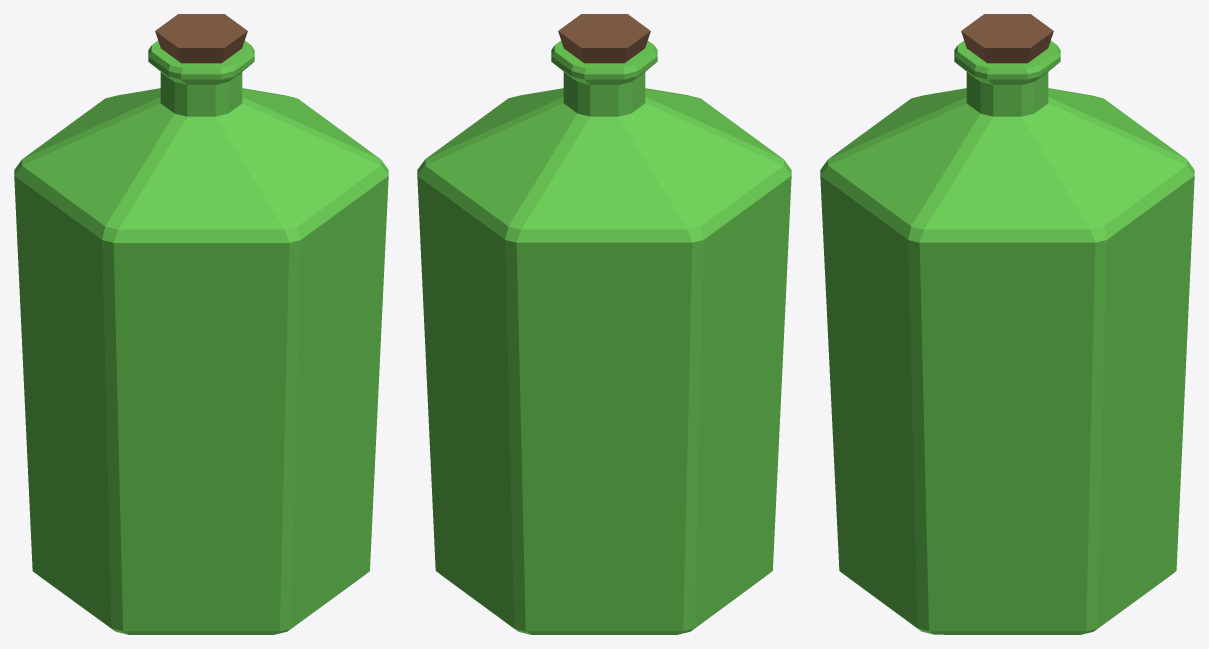
The model's file is Potion_02_Green.fbx.
3 renders of one model, left to right at view 1: azimuth 30°, elevation 25°; view 2: azimuth 150°, elevation 25°; view 3: azimuth 270°, elevation 25°, orthographic.
Visible parts, largest first — view 1: Cone.013, Cylinder.039, Cylinder.038; view 2: Cone.013, Cylinder.039, Cylinder.038; view 3: Cone.013, Cylinder.039, Cylinder.038.
Boxes of the visible parts, bbox=[...] form: Cone.013: bbox=[14, 88, 388, 634]; Cylinder.039: bbox=[148, 40, 254, 116]; Cylinder.038: bbox=[155, 14, 247, 63]; Cone.013: bbox=[417, 88, 791, 634]; Cylinder.039: bbox=[551, 40, 657, 116]; Cylinder.038: bbox=[558, 14, 650, 63]; Cone.013: bbox=[820, 88, 1194, 634]; Cylinder.039: bbox=[954, 40, 1060, 116]; Cylinder.038: bbox=[961, 14, 1053, 63].
Bounding box in the file's own units: 14.97 × 27.16 × 16.94.
